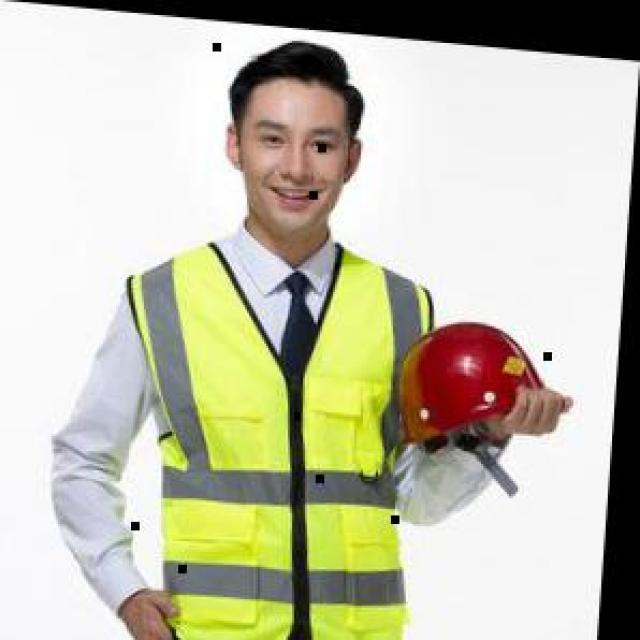safety_helmet: (109, 242, 431, 640)
